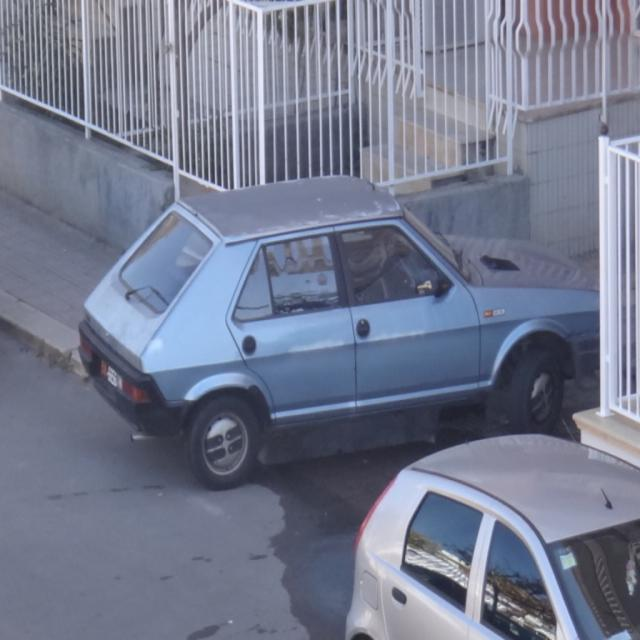car: (76, 174, 598, 489)
